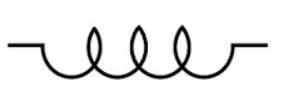inductor: (33, 20, 246, 84)
